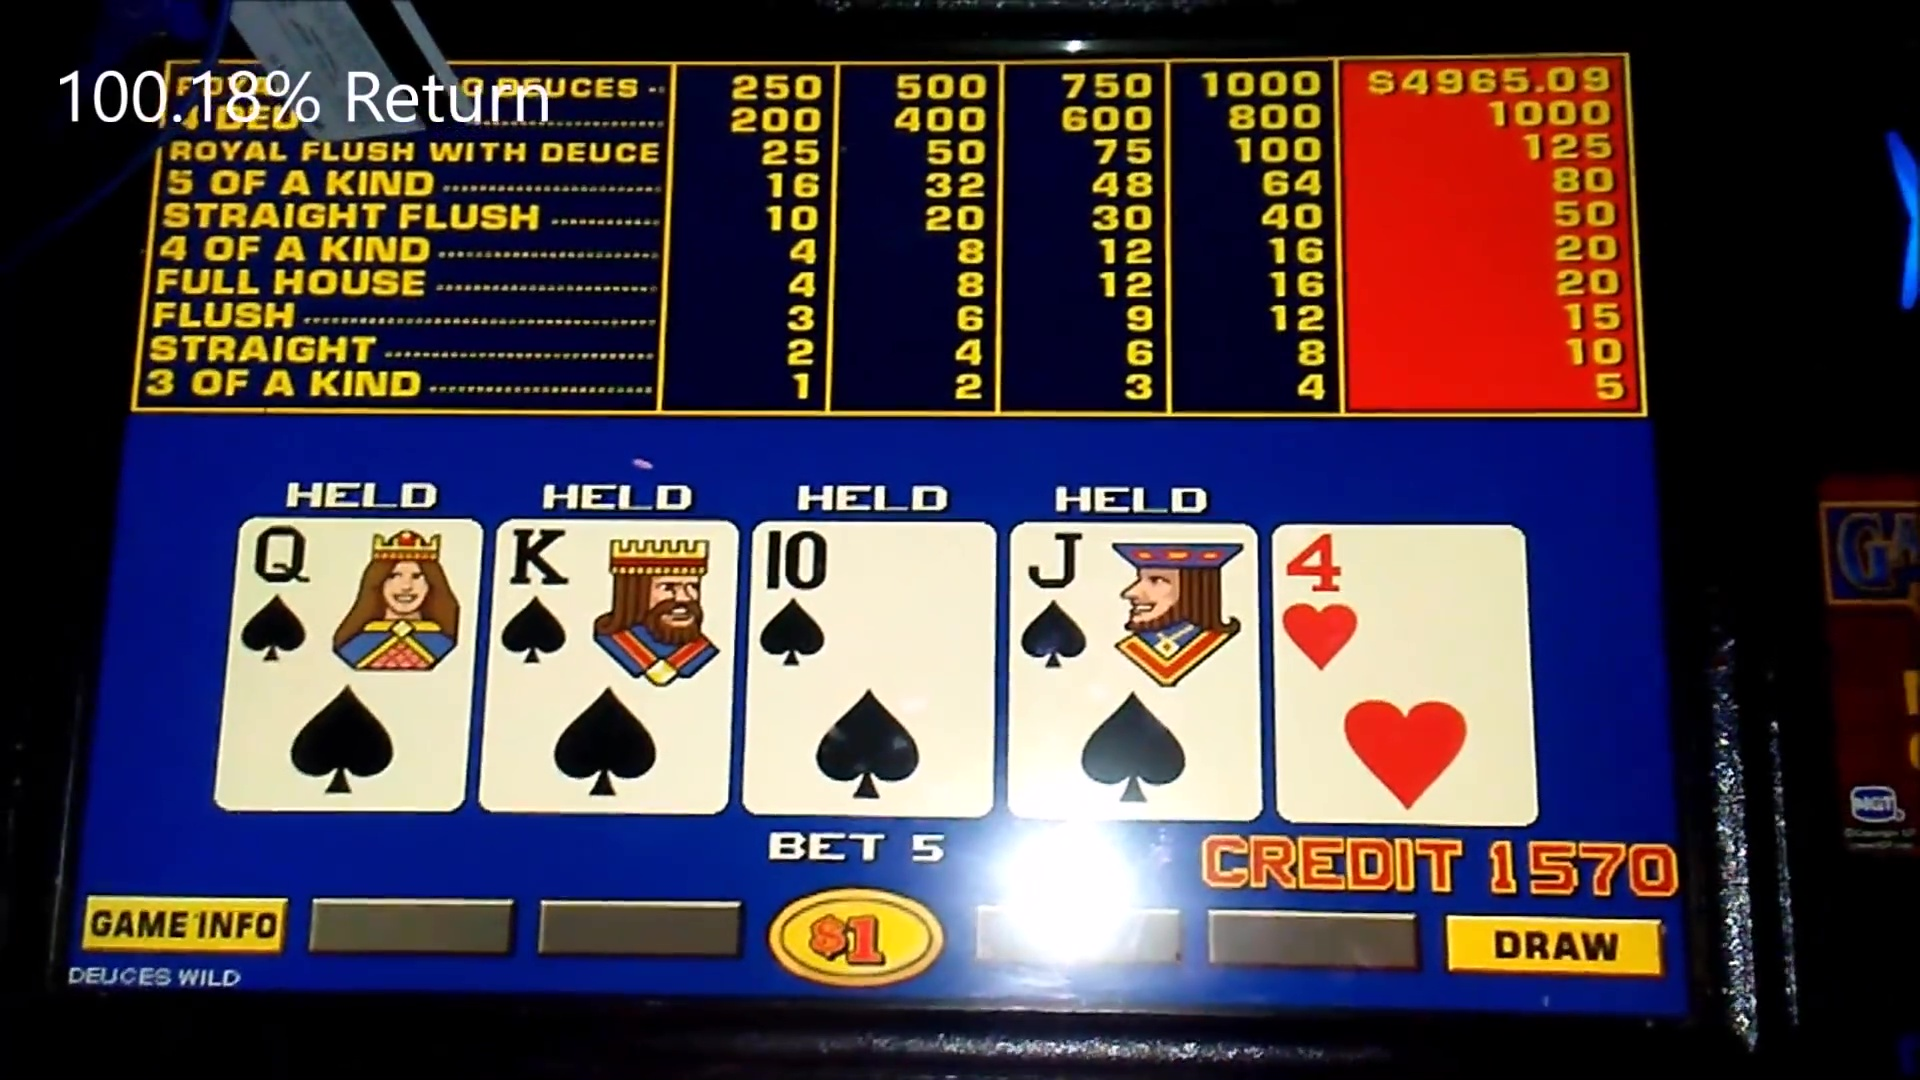H4: (1283, 527, 1527, 676)
SJ: (1015, 529, 1237, 675)
SK: (493, 524, 731, 667)
SQ: (243, 516, 471, 662)
ST: (749, 521, 996, 669)
